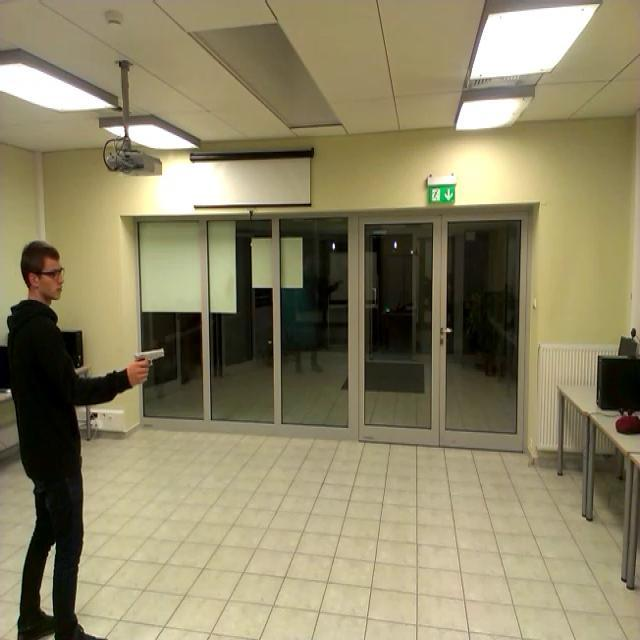Gun: (129, 343, 176, 389)
